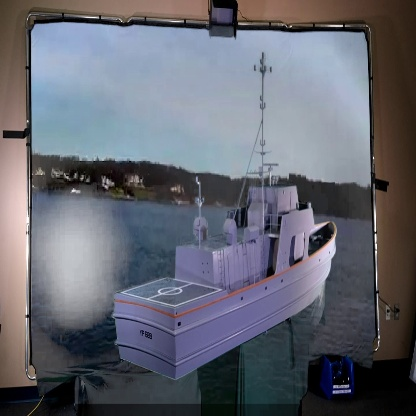YP689: (110, 50, 341, 386)
